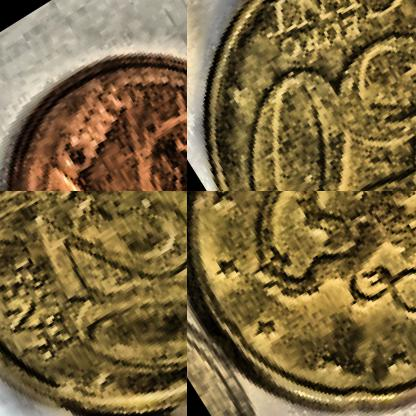coin: (187, 191, 415, 415), (187, 0, 415, 190), (0, 191, 186, 415), (0, 5, 186, 190)
